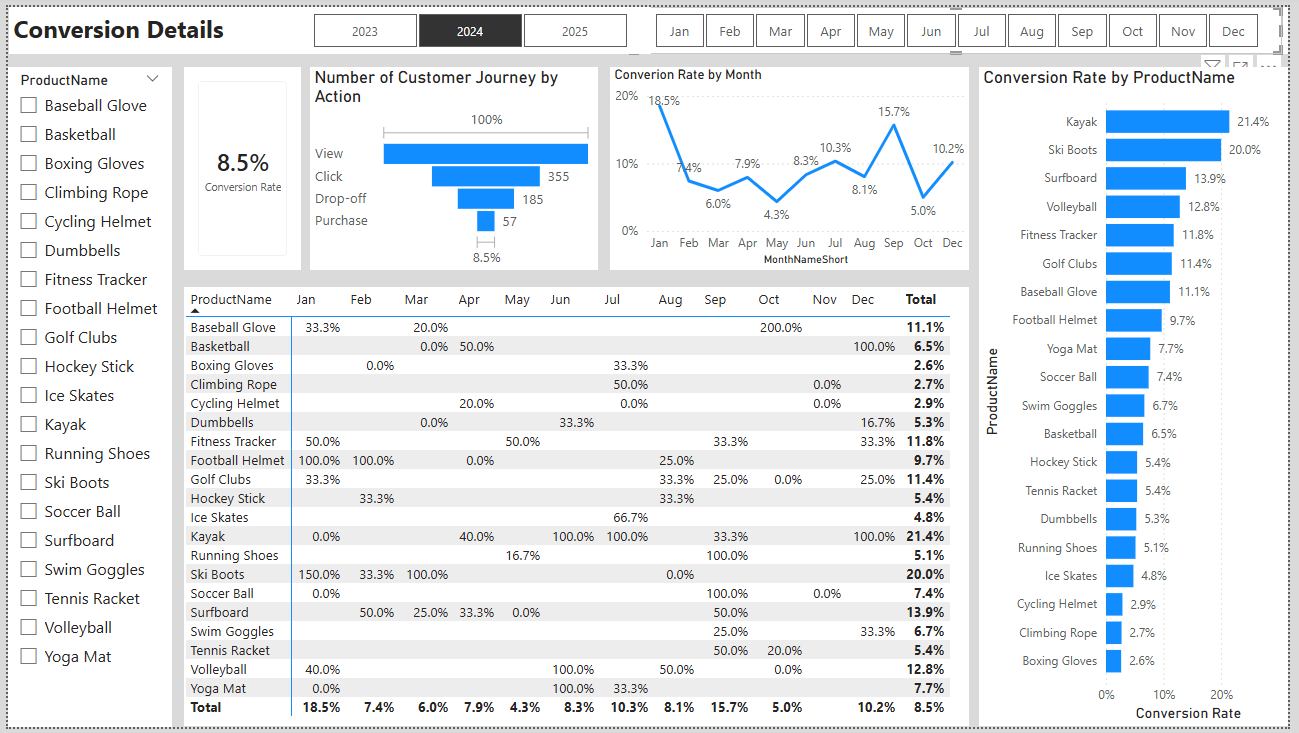

This screenshot's page, from the dashboard's own definition file:
{"tool":"powerbi","page":{"name":"Conversion Details","canvas":[1280,720],"ordinal":1},"visuals":[{"type":"textbox","box":[1.1,0,1278.9,47.2],"z":0},{"type":"slicer","fields":{"Values":["dim_products.ProductName"]},"box":[0,60.3,164.4,659.5],"z":1000},{"type":"cardVisual","fields":{"Data":["_Calculation.Converion Rate"]},"box":[176.4,60,116.4,203.3],"z":2000},{"type":"slicer","fields":{"Values":["Calendar.MonthNameShort"]},"box":[622.2,0,652.2,46.7],"z":3000},{"type":"slicer","fields":{"Values":["Calendar.Year"]},"box":[280,0,363.3,46.7],"z":4000},{"type":"lineChart","title":"Converion Rate by Month","fields":{"Category":["Calendar.MonthNameShort"],"Y":["_Calculation.Converion Rate"]},"box":[601.8,60,359.1,203.3],"z":5000},{"type":"clusteredBarChart","fields":{"Category":["dim_products.ProductName"],"Y":["_Calculation.Converion Rate"]},"box":[970.7,60,309,659.1],"z":6000},{"type":"pivotTable","fields":{"Values":["_Calculation.Conversion Rate"],"Rows":["dim_products.ProductName"],"Columns":["Calendar.MonthNameShort"]},"box":[176.4,280.3,784.5,438.8],"z":7000},{"type":"funnel","fields":{"Y":["_Calculation.Number of Customer Journey"],"Category":["fact_customer_journey.Action"]},"box":[301.8,60,288.4,203.3],"z":8000}]}

Visuals, with their boxes in screenshot pixels (x1, y1, x2, y2), scaled from the page's 1280x720 canvas onto the 1299x733 screenshot:
textbox: (x1=1, y1=0, x2=1298, y2=48)
slicer - dim_products.ProductName: (x1=0, y1=61, x2=167, y2=732)
cardVisual - _Calculation.Converion Rate: (x1=179, y1=61, x2=297, y2=268)
slicer - Calendar.MonthNameShort: (x1=631, y1=0, x2=1293, y2=48)
slicer - Calendar.Year: (x1=284, y1=0, x2=653, y2=48)
"Converion Rate by Month" lineChart: (x1=611, y1=61, x2=975, y2=268)
clusteredBarChart - dim_products.ProductName x _Calculation.Converion Rate: (x1=985, y1=61, x2=1298, y2=732)
pivotTable - _Calculation.Conversion Rate x dim_products.ProductName: (x1=179, y1=285, x2=975, y2=732)
funnel - _Calculation.Number of Customer Journey x fact_customer_journey.Action: (x1=306, y1=61, x2=599, y2=268)
